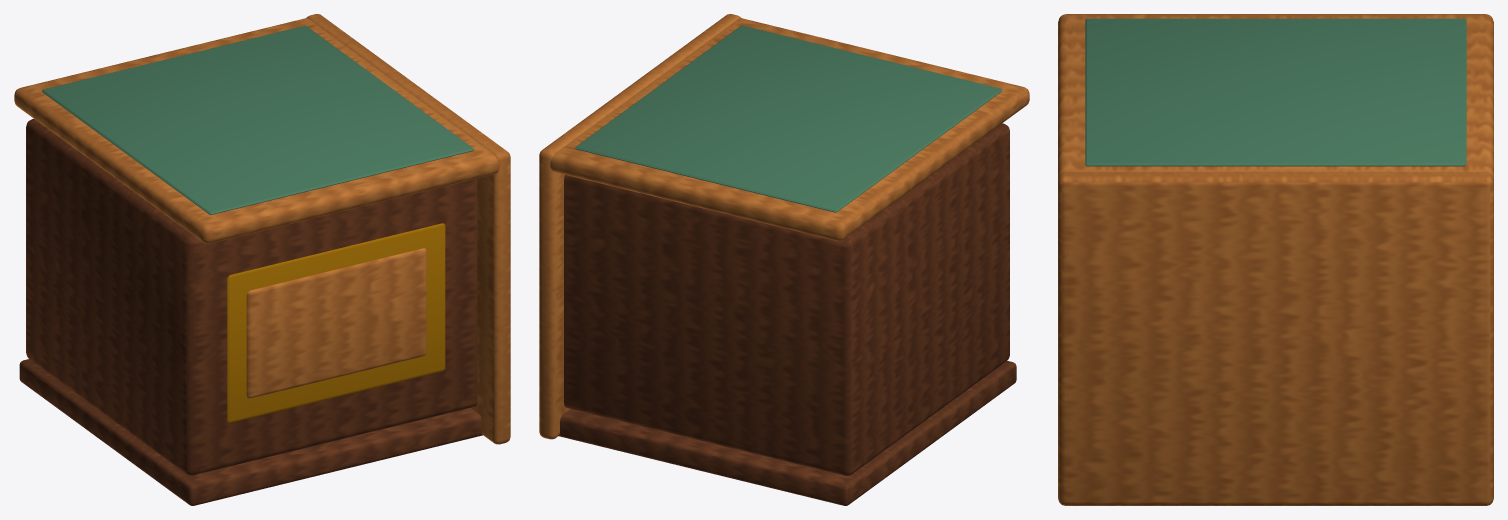
The model's file is counter_end_r.glb.
3 views of the same model, side by side, from view 1: azimuth 30°, elevation 25°; view 2: azimuth 150°, elevation 25°; view 3: azimuth 270°, elevation 25° (orthographic). The views are drawn at different scales.
Parts seen in each view (by area): view 1: body, inlay, inner, top, plinth, inset, endcap; view 2: body, inlay, top, plinth, endcap; view 3: endcap, inlay, top.
Boxes of the visible parts, x1,y1,x2,y2 form: body: (26,119,477,475); inlay: (42,25,473,214); inner: (246,248,426,398); top: (14,18,499,243); plinth: (19,359,482,505); inset: (227,223,445,422); endcap: (306,14,510,444); body: (564,123,1009,475); inlay: (575,25,1002,212); top: (550,18,1029,240); plinth: (558,361,1016,505); endcap: (539,14,740,439); endcap: (1058,172,1493,505); inlay: (1085,18,1466,166); top: (1058,14,1493,178).
Size of the model in its own units: 0.4425 by 0.4015 by 0.48.
Materials: 4 (2 with a texture image).
